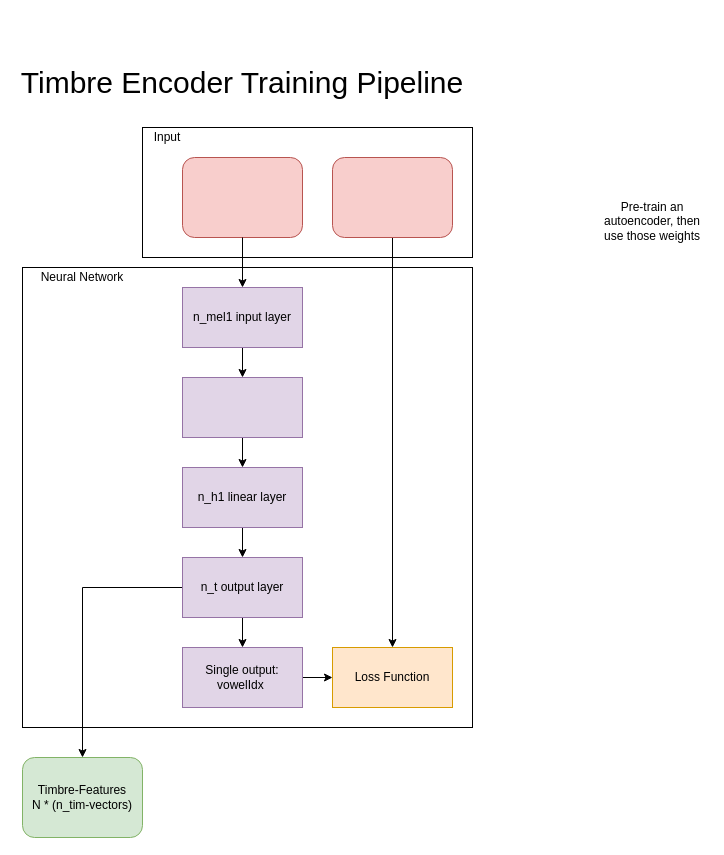
Image size: 724x855. Some labels were removed from this diagram. The centre of each missing label's shape, as x and y in pixels:
"Label: vowelIdx" goes at [392,197].
"Mel-Spectrum n_mel1-vector" goes at [242,197].
"n_mel1 linear layer" goes at [242,407].
